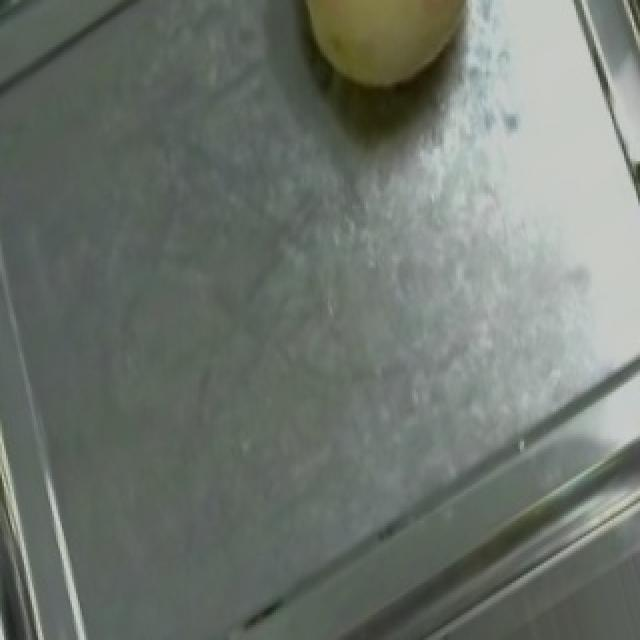Fruit: (264, 0, 502, 122)
